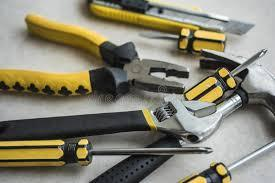wrench: (0, 98, 223, 144)
